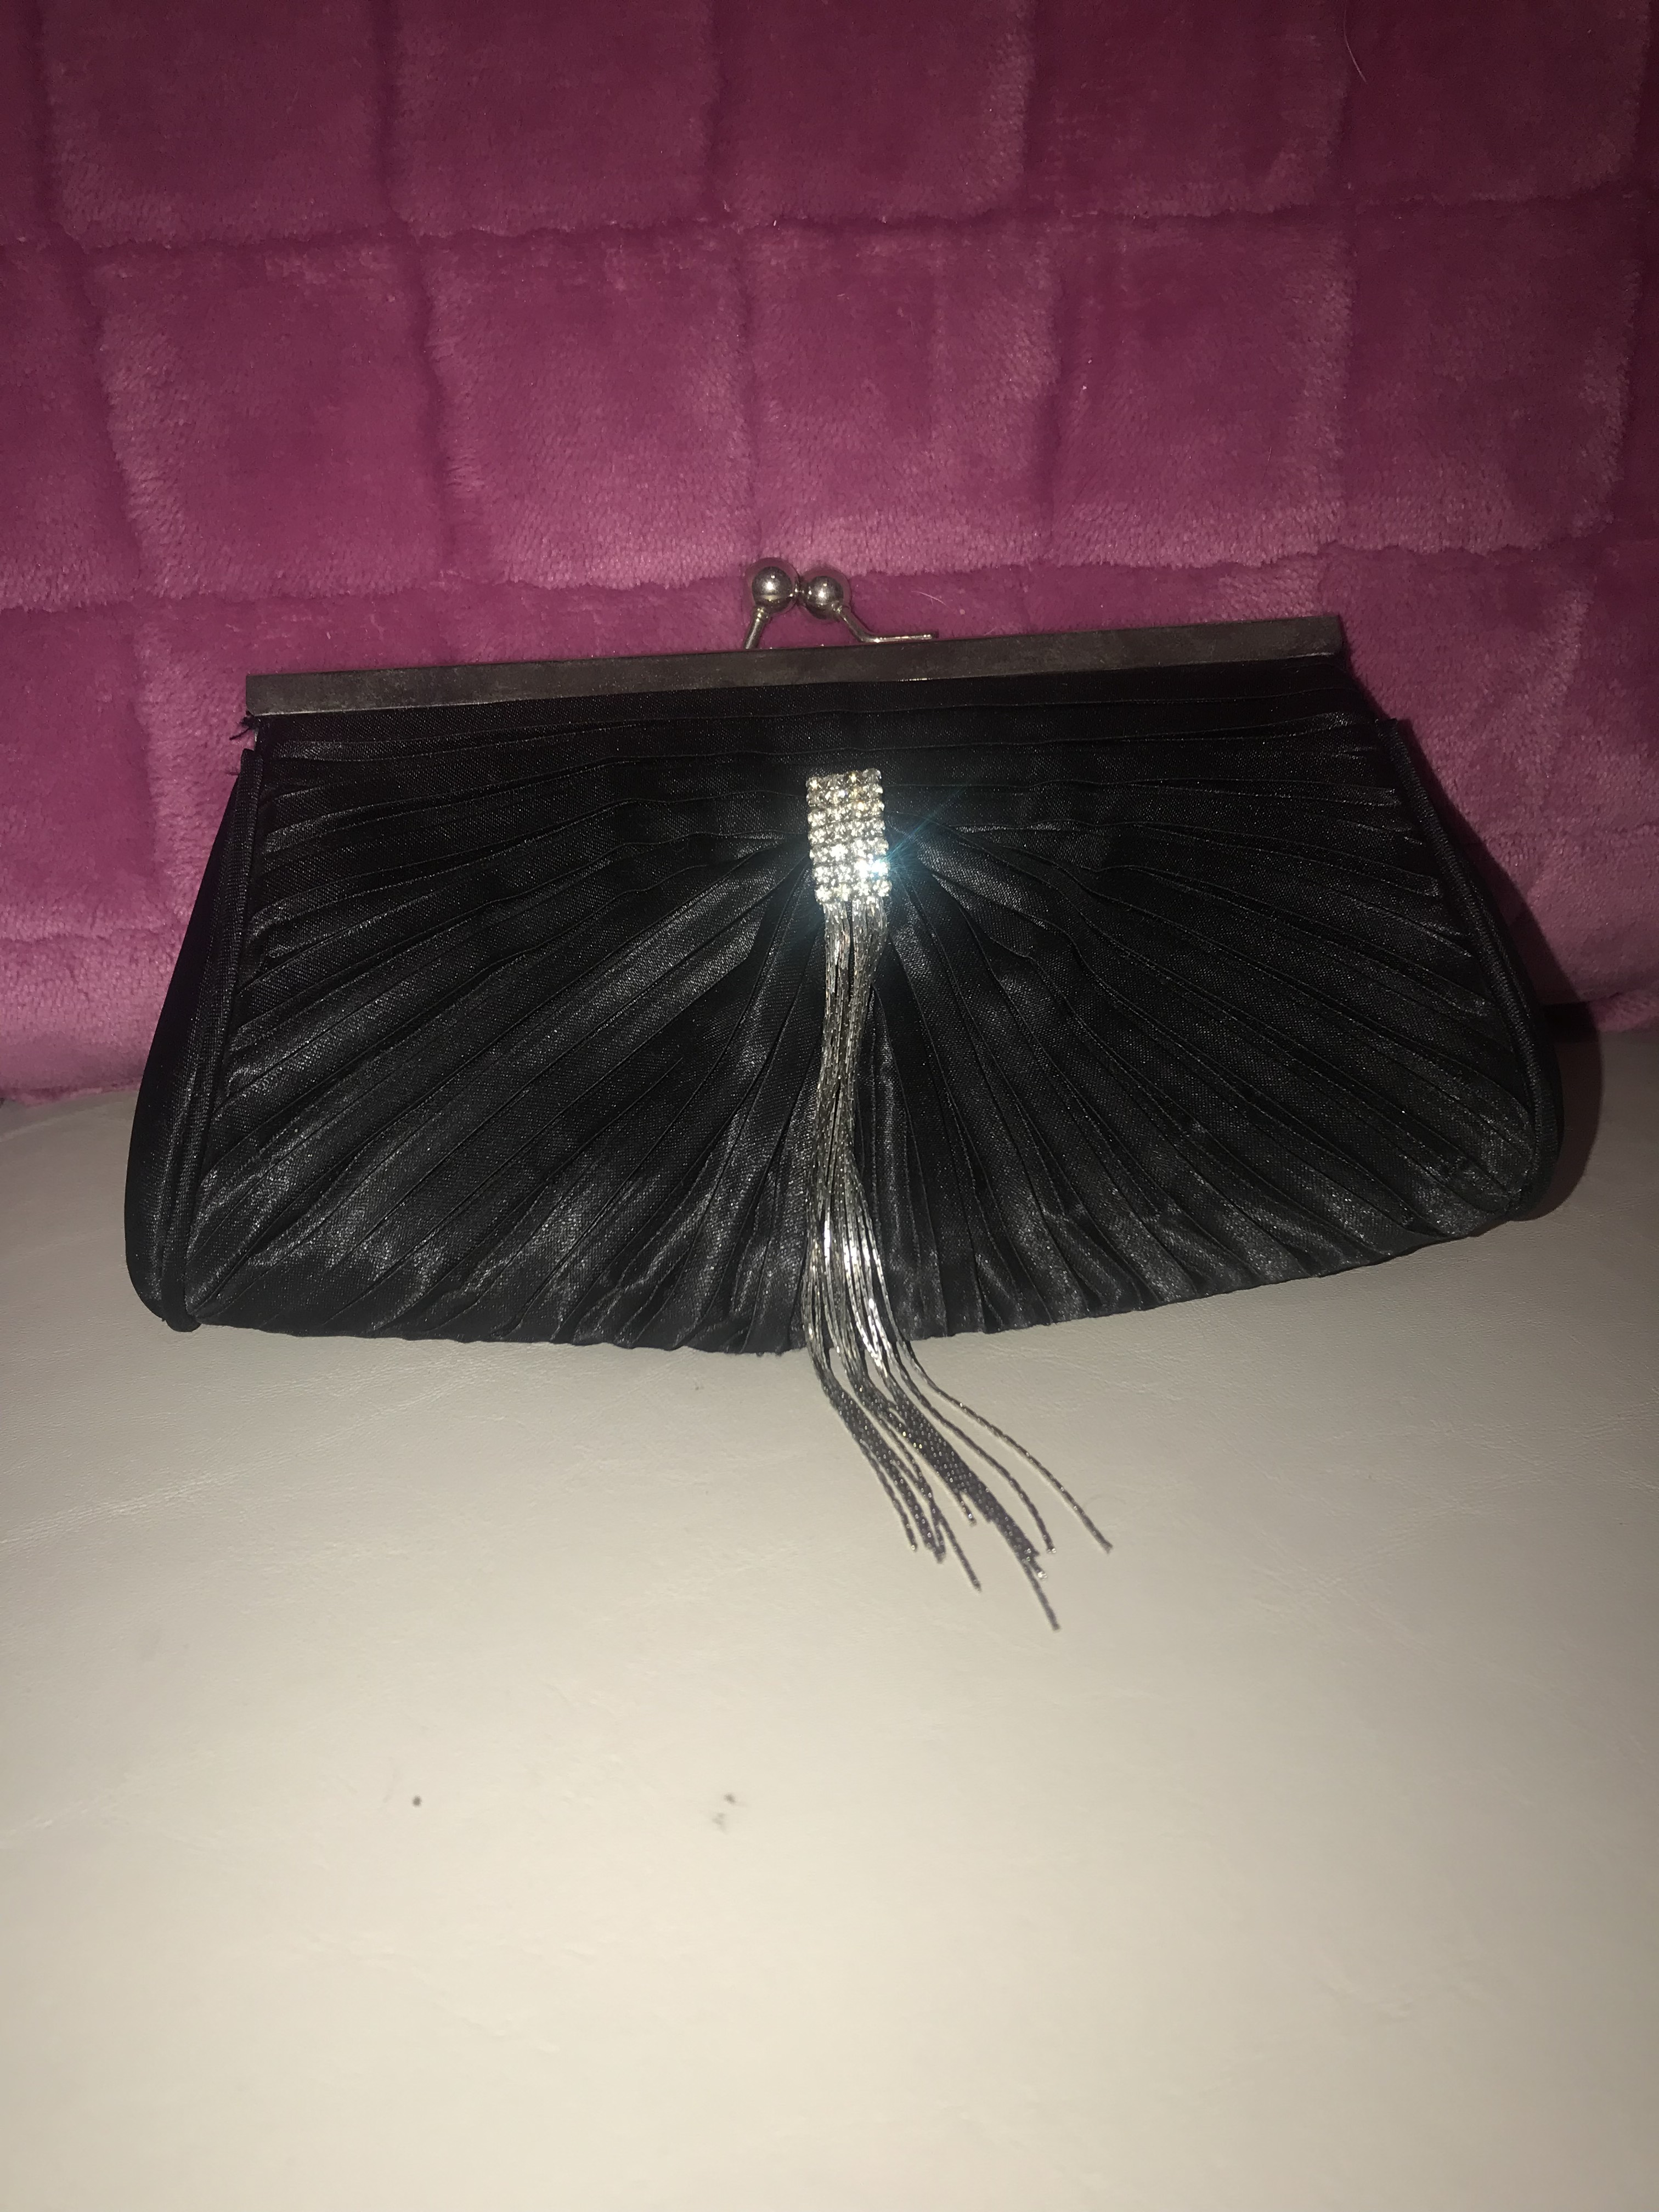cartera: (120, 542, 1581, 1669)
tela: (336, 1003, 601, 1268)
